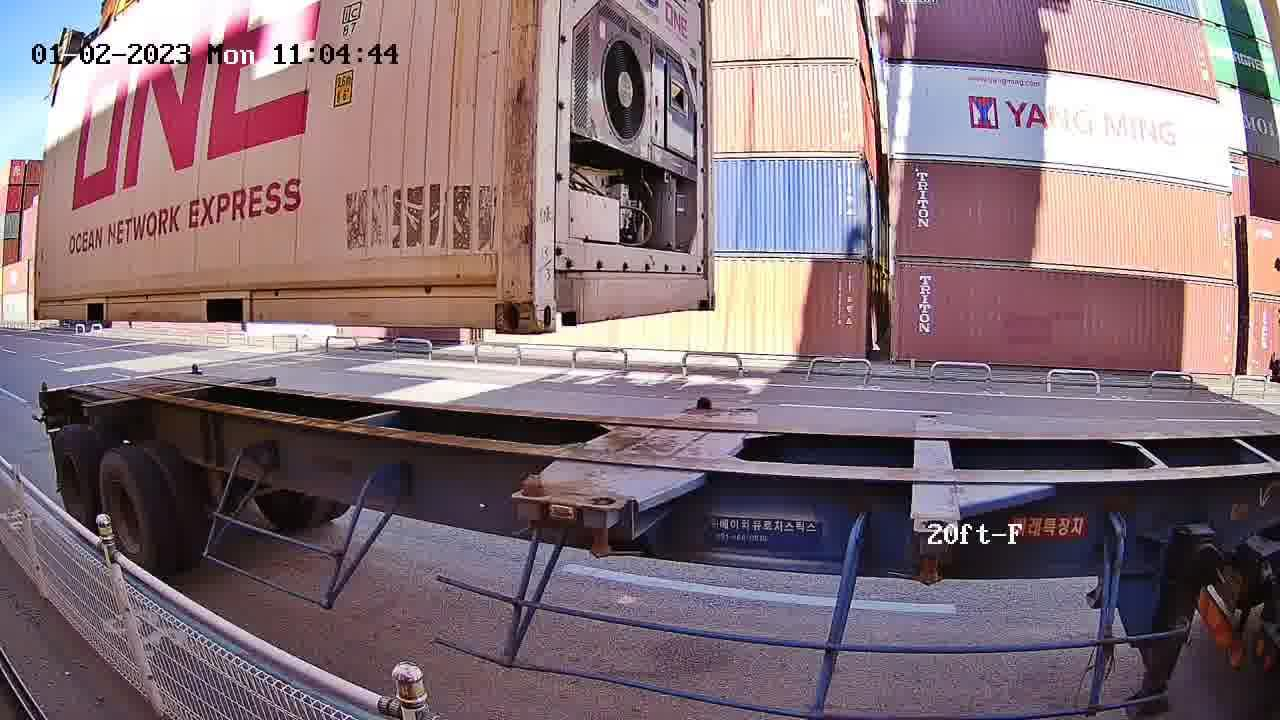Chassis: (514, 408, 718, 503), (583, 409, 757, 507)
Cone: (583, 495, 623, 559), (513, 472, 549, 531), (691, 393, 715, 411)
Hole_L: (532, 275, 587, 334)
Hole_R: (466, 273, 532, 335), (690, 275, 716, 310)
Tire: (100, 451, 153, 569), (56, 431, 96, 539)
